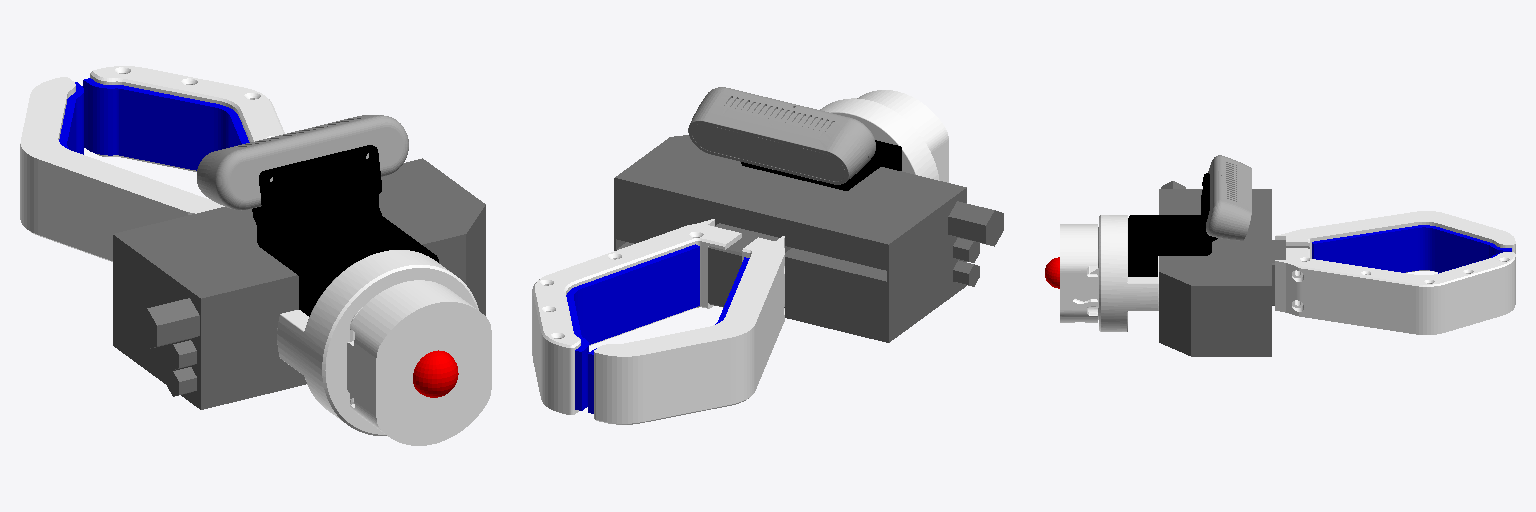
robot.urdf — ur10:
<?xml version="1.0" ?>
<robot name="ur10" xmlns:xacro="http://www.ros.org/wiki/xacro">
  
  <material name="blue">
      <color rgba="0.0 0.0 1.0 1.0"/>
  </material>
  <material name="white">
      <color rgba="1.0 1.0 1.0 1.0"/>
  </material>
  <material name="black">
      <color rgba="0.0 0.0 0.0 1.0"/>
  </material>
  <material name="gray">
   		<color rgba="0.5 0.5 0.5 1"/>
  </material>

  <material name="LightGrey">
      <color rgba="0.7 0.7 0.7 1.0"/>
  </material>

  <link name="world"/>

  <joint name="world_joint" type="fixed">
    <parent link="world"/>
    <child link="base_link"/>
    <origin rpy="0.0 0.0 0.0" xyz="0.0 0.0 0.0"/>
  </joint>

<!-- UR 10 -->
  <link name="base_link">
    <visual>
      <geometry>
        <mesh filename="meshes/ur10/Base.dae"/>
      </geometry>
      <material name="LightGrey"/>
    </visual>
    <collision>
       <!-- corrected-->
      <origin rpy="0 0 0" xyz="0.000 0.0 0.-15"/>
      <geometry>
         <!-- corrected-->
        <cylinder length="0.10" radius="0.085" />
        <!-- <mesh filename="meshes/ur10/Base.obj"/> -->
      </geometry>
    </collision>
    <collision>
      <!-- added-->
      <origin rpy="0 0 0" xyz="0.0 0.0 0.135"/>
      <geometry>
        <cylinder length="0.155" radius="0.076" />
      </geometry>
    </collision>
    <inertial>
      <mass value="4.0"/>
      <origin rpy="0 0 0" xyz="0.0 0.0 0.0"/>
      <inertia ixx="0.0061063308908" ixy="0.0" ixz="0.0" iyy="0.0061063308908" iyz="0.0" izz="0.01125"/>
    </inertial>
     <contact_coefficients kd="1.0" kp="1000.0" mu="0"/>
  </link>

  <joint name="shoulder_pan_joint" type="revolute">
    <parent link="base_link"/>
    <child link="shoulder_link"/>
    <origin rpy="0.0 0.0 0.0" xyz="0.0 0.0 0.1273"/>
    <axis xyz="0 0 1"/>
    <limit effort="330.0" lower="-6.2831853" upper="6.2831853" velocity="2.16"/>
    <dynamics damping="0.0" friction="0.0"/>
  </joint>

  <link name="shoulder_link">
    <visual>
      <geometry>
        <mesh filename="meshes/ur10/Shoulder.dae"/>
      </geometry>
      <material name="LightGrey"/>
    </visual>
    <collision>
      <!-- corrected-->
      <origin rpy="1.57079632679 0 0" xyz="0.0 0.18 -0.0"/>
      <geometry>
       <!-- corrected-->
        <cylinder length="0.17" radius="0.08" />
        <!-- <mesh filename="meshes/ur10/Shoulder.obj"/>  -->
      </geometry>
    </collision>
    <inertial>
      <mass value="7.778"/>
      <origin rpy="0 0 0" xyz="0.0 0.0 0.0"/>
      <inertia ixx="0.0314743125769" ixy="0.0" ixz="0.0" iyy="0.0314743125769" iyz="0.0" izz="0.021875625"/>
    </inertial>
    <contact_coefficients kd="1.0" kp="1000.0" mu="0"/>
  </link>
  
  <joint name="shoulder_lift_joint" type="revolute">
    <parent link="shoulder_link"/>
    <child link="upper_arm_link"/>
    <origin rpy="0.0 1.570796325 0.0" xyz="0.0 0.220941 0.0"/>
    <axis xyz="0 1 0"/>
    <limit effort="330.0" lower="-6.2831853" upper="6.2831853" velocity="2.16"/>
    <dynamics damping="0.0" friction="0.0"/>
  </joint>
  
  <link name="upper_arm_link">
    <visual>
      <geometry>
        <mesh filename="meshes/ur10/UpperArm.dae"/>
      </geometry>
      <material name="LightGrey"/>
    </visual>
    <collision>
      <!-- corrected-->
      <origin rpy="0 0 0" xyz="0.0 -0.045 0.320"/>
      <geometry>
        <!-- corrected-->
        <cylinder length="0.70" radius="0.06" />
        <!-- <mesh filename="meshes/ur10/UpperArm.obj"/> -->
      </geometry>
    </collision>
    <collision>
      <!-- added-->
      <origin rpy="0 1.57 1.57" xyz="0 -0.04 0.61"/>
      <geometry>
        <cylinder length="0.125" radius="0.06" />
      </geometry>
    </collision>
    <inertial>
      <mass value="12.93"/>
      <origin rpy="0 0 0" xyz="0.0 0.0 0.306"/>
      <inertia ixx="0.421753803798" ixy="0.0" ixz="0.0" iyy="0.421753803798" iyz="0.0" izz="0.036365625"/>
    </inertial>
    <contact_coefficients kd="1.0" kp="1000.0" mu="0"/>
  </link>
  
  <joint name="elbow_joint" type="revolute">
    <parent link="upper_arm_link"/>
    <child link="forearm_link"/>
    <origin rpy="0.0 0.0 0.0" xyz="0.0 -0.1719 0.612"/>
    <axis xyz="0 1 0"/>
    <limit effort="150.0" lower="-6.2831853" upper="6.2831853" velocity="3.15"/>
    <dynamics damping="0.0" friction="0.0"/>
  </joint>
  
  <link name="forearm_link">
    <visual>
      <geometry>
        <mesh filename="meshes/ur10/Forearm.dae"/>
      </geometry>
      <material name="LightGrey"/>
    </visual>
    <collision>
      <!-- <origin rpy="1.57079632679 0 0" xyz="0.0 0.00 -0.0"/> -->
      <!-- corrected-->
      <origin rpy="0 0 0" xyz="0 0.0 0.28"/>
      <geometry>
        <!-- corrected-->
        <cylinder length="0.675" radius="0.047" />
        <!-- <mesh filename="meshes/ur10/Forearm.obj"/> -->
      </geometry>
    </collision>
    <collision>
      <!-- added-->
      <origin rpy="0 1.57 1.57" xyz="0 -0.003 0"/>
      <geometry>
        <cylinder length="0.13" radius="0.060" />
      </geometry>
    </collision>
    <inertial>
      <mass value="3.87"/>
      <origin rpy="0 0 0" xyz="0.0 0.0 0.28615"/>
      <inertia ixx="0.111069694097" ixy="0.0" ixz="0.0" iyy="0.111069694097" iyz="0.0" izz="0.010884375"/>
    </inertial>
    <contact_coefficients kd="1.0" kp="1000.0" mu="0"/>    
  </link>
  
  <joint name="wrist_1_joint" type="revolute">
    <parent link="forearm_link"/>
    <child link="wrist_1_link"/>
    <origin rpy="0.0 1.570796325 0.0" xyz="0.0 0.0 0.5723"/>
    <axis xyz="0 1 0"/>
    <limit effort="54.0" lower="-6.2831853" upper="6.2831853" velocity="3.2"/>
    <dynamics damping="0.0" friction="0.0"/>
  </joint>
  
  <link name="wrist_1_link">
    <visual>
      <geometry>
        <mesh filename="meshes/ur10/Wrist1.dae"/>
      </geometry>
      <material name="LightGrey"/>
    </visual>
    <collision>
      <!-- <origin rpy="1.57079632679 0 0" xyz="0.0 0.1100 -0.0"/> -->
      <!-- corrected-->
      <origin rpy="0 0 0" xyz="0.0 0.115 0.0025"/>
      <geometry>
      <!-- corrected-->
      <cylinder length="0.115" radius="0.047" />
        <!-- <mesh filename="meshes/ur10/Wrist1.obj"/> -->
      </geometry>
    </collision>
    <collision>
      <!-- added-->
      <origin rpy="0 1.57 1.57" xyz="0 -0.003 0"/>
      <geometry>
        <cylinder length="0.13" radius="0.047" />
      </geometry>
    </collision>
    <inertial>
      <mass value="1.96"/>
      <origin rpy="0 0 0" xyz="0.0 0.0 0.0"/>
      <inertia ixx="0.0051082479567" ixy="0.0" ixz="0.0" iyy="0.0051082479567" iyz="0.0" izz="0.0055125"/>
    </inertial>
    <contact_coefficients kd="1.0" kp="1000.0" mu="0"/>
  </link>
  
  <joint name="wrist_2_joint" type="revolute">
    <parent link="wrist_1_link"/>
    <child link="wrist_2_link"/>
    <origin rpy="0.0 0.0 0.0" xyz="0.0 0.1149 0.0"/>
    <axis xyz="0 0 1"/>
    <limit effort="54.0" lower="-6.2831853" upper="6.2831853" velocity="3.2"/>
    <dynamics damping="0.0" friction="0.0"/>
  </joint>
  
  <link name="wrist_2_link">
    <visual>
      <geometry>
        <mesh filename="meshes/ur10/Wrist2.dae"/>
      </geometry>
      <material name="LightGrey"/>
    </visual>
    <collision>
      <!-- corrected-->
      <origin rpy="1.57079632679 0 0" xyz="0.0 0.02 0.115"/>
      <geometry>
      <!-- corrected-->
      <cylinder length="0.15" radius="0.046" />
        <!-- <mesh filename="meshes/ur10/Wrist2.obj"/> -->
      </geometry>
    </collision>
    <inertial>
      <mass value="1.96"/>
      <origin rpy="0 0 0" xyz="0.0 0.0 0.0"/>
      <inertia ixx="0.0051082479567" ixy="0.0" ixz="0.0" iyy="0.0051082479567" iyz="0.0" izz="0.0055125"/>
    </inertial>
    <contact_coefficients kd="1.0" kp="1000.0" mu="0"/>
  </link>
  
  <joint name="wrist_3_joint" type="revolute">
    <parent link="wrist_2_link"/>
    <child link="wrist_3_link"/>
    <origin rpy="0.0 0.0 0.0" xyz="0.0 0.0 0.1157"/>
    <axis xyz="0 1 0"/>
    <limit effort="54.0" lower="-6.2831853" upper="6.2831853" velocity="3.2"/>
    <dynamics damping="0.0" friction="0.0"/>
  </joint>
  
  <link name="wrist_3_link">
    <visual>
      <geometry>
        <mesh filename="meshes/ur10/Wrist3.dae"/>
      </geometry>
      <material name="LightGrey"/>
    </visual>
	  <collision>
      <origin rpy="1.57079632679 0 0" xyz="0.0 0.115 0.0"/>
      <geometry>
        <cylinder length="0.025" radius="0.046" />
      </geometry>
    </collision>
    <inertial>
      <mass value="0.202"/>
      <origin rpy="0 0 0" xyz="0.0 0.0 0.0"/>
      <inertia ixx="0.000526462289415" ixy="0.0" ixz="0.0" iyy="0.000526462289415" iyz="0.0" izz="0.000568125"/>
    </inertial>
    <contact_coefficients kd="1.0" kp="1000.0" mu="0"/>
  </link>

  <joint name="ee_fixed_joint" type="fixed">
    <parent link="wrist_3_link"/>
    <child link="ee_link"/>
    <origin rpy="0.0 0.0 1.570796325" xyz="0.0 0.0922 0.0"/>
  </joint>
  
  <link name="ee_link">
      <visual>
          <origin xyz="0.0 0 0" rpy="0 0 0" />
          <geometry>
             <sphere radius="0.01"/>
          </geometry>
          <material name="red">
        		<color rgba="1 0 0 1"/>
      	  </material>
      </visual>
  </link>
 
 <!-- WSG50-110 -->

  <link name="wsg50_holder_link">
    <inertial>
        <mass value="0.3" />
        <origin xyz="0 0 0" />
        <inertia  ixx="1.0" ixy="0.0"  ixz="0.0"  iyy="1.0"  iyz="0.0"  izz="1.0" />
    </inertial>
    <visual>
        <origin xyz="0.0 0 0" rpy="0 0 0" />
        <geometry>
            <mesh filename="meshes/wsg50/wsg50-holder.stl" scale="0.001 0.001 0.001"/>
        </geometry>
        <material name="white"/>
    </visual>
    <collision>
        <origin xyz="0.0 0 0" rpy="0 0 0" />
        <geometry>
            <mesh filename="meshes/wsg50/wsg50-holder.stl" scale="0.001 0.001 0.001"/>
        </geometry>
    </collision>
    <contact_coefficients kd="1.0" kp="1000.0" mu="0"/>
  </link>

  <joint name="wsg50_holder_joint" type="fixed">
    <origin rpy="0 -1.570796325 0" xyz="0 0 0"/>
    <parent link="ee_link" />
    <child link="wsg50_holder_link" />
  </joint>

  <link name="wsg50_base_link">
    <inertial>
        <mass value="1.2" />
        <origin xyz="0 0 0" />
        <inertia  ixx="1.0" ixy="0.0"  ixz="0.0"  iyy="1.0"  iyz="0.0"  izz="1.0" />
    </inertial>
    <visual>
        <origin xyz="0.0 0 0" rpy="0 0 0" />
        <geometry>
            <mesh filename="meshes/wsg50/wsg50-110-base.stl" scale="0.001 0.001 0.001"/>
        </geometry>
        <material name="gray"/>
    </visual>
    <collision>
        <origin xyz="0.0 0 0" rpy="0 0 0" />
        <geometry>
            <mesh filename="meshes/wsg50/wsg50-110-base.stl" scale="0.001 0.001 0.001"/>
        </geometry>
    </collision>
    <contact_coefficients kd="1.0" kp="1000.0" mu="0"/>
  </link>

  <joint name="wsg50_base_holder_joint" type="fixed">
    <origin rpy="0 0 0" xyz="0 0 0"/>
    <parent link="wsg50_holder_link" />
    <child link="wsg50_base_link" />
  </joint>

 <!-- Finger - 1  -->
  <link name="wsg50_lip1_link">
    <inertial>
        <mass value="0.1" />
        <origin xyz="0 0 0" />
        <inertia  ixx="1.0" ixy="0.0"  ixz="0.0"  iyy="1.0"  iyz="0.0"  izz="1.0" />
    </inertial>
    <visual>
        <origin xyz="0.0 0 0" rpy="0 0 0" />
        <geometry>
            <mesh filename="meshes/wsg50/wsg50-lip-1.stl" scale="0.001 0.001 0.001"/>
        </geometry>
        <material name="gray"/>
    </visual>
    <collision>
        <origin xyz="0.0 0 0" rpy="0 0 0" />
        <geometry>
            <mesh filename="meshes/wsg50/wsg50-lip-1.stl" scale="0.001 0.001 0.001"/>
        </geometry>
    </collision>
    <contact_coefficients kd="1.0" kp="1000.0" mu="0"/>     
  </link>

  <joint name="wsg50_base_lip1_joint" type="prismatic">
    <parent link="wsg50_base_link"/>
    <child link="wsg50_lip1_link"/>
    <origin   xyz="0 0 0"   rpy="0 0 0"  />
    <axis xyz="0 -1 0"/>
    <limit effort="30" lower="0" upper="0.055" velocity="0.5"/>
  </joint>

  <link name="wsg50_finger1_link">
    <inertial>
        <mass value="0.1" />
        <origin xyz="0 0 0" />
        <inertia  ixx="1.0" ixy="0.0"  ixz="0.0"  iyy="1.0"  iyz="0.0"  izz="1.0" />
    </inertial>
    <visual>
        <origin xyz="0.0 0 0" rpy="0 0 0" />
        <geometry>
            <mesh filename="meshes/wsg50/wsg50-finger-1.stl" scale="0.001 0.001 0.001"/>
        </geometry>
        <material name="white"/>
    </visual>
    <collision>
        <origin xyz="0.0 0 0" rpy="0 0 0" />
        <geometry>
            <mesh filename="meshes/wsg50/wsg50-finger-1.stl" scale="0.001 0.001 0.001"/>
        </geometry>
    </collision>
    <contact_coefficients kd="1.0" kp="1000.0" mu="0"/>
  </link>

  <joint name="wsg50_lip1_finger1_joint" type="fixed">
    <origin rpy="0 0 0" xyz="0 0 0"/>
    <parent link="wsg50_lip1_link" />
    <child link="wsg50_finger1_link" />
  </joint>

  <link name="wsg50_tip1_link">
    <inertial>
        <mass value="0.05" />
        <origin xyz="0 0 0" />
        <inertia  ixx="1.0" ixy="0.0"  ixz="0.0"  iyy="1.0"  iyz="0.0"  izz="1.0" />
    </inertial>
    <visual>
        <origin xyz="0.0 0 0" rpy="0 0 0" />
        <geometry>
            <mesh filename="meshes/wsg50/wsg50-tip-1.stl" scale="0.001 0.001 0.001"/>
        </geometry>
        <material name="blue"/>
    </visual>
    <collision>
        <origin xyz="0.0 0 0" rpy="0 0 0" />
        <geometry>
            <mesh filename="meshes/wsg50/wsg50-tip-1.stl" scale="0.001 0.001 0.001"/>
        </geometry>
    </collision>
    <contact_coefficients kd="1.0" kp="1000.0" mu="0"/>
  </link>

  <joint name="wsg50_lip1_tip1_joint" type="fixed">
    <origin rpy="0 0 0" xyz="0 0 0"/>
    <parent link="wsg50_lip1_link" />
    <child link="wsg50_tip1_link" />
  </joint>

 <!-- Finger - 2  -->
  <link name="wsg50_lip2_link">
    <inertial>
        <mass value="0.1" />
        <origin xyz="0 0 0" />
        <inertia  ixx="1.0" ixy="0.0"  ixz="0.0"  iyy="1.0"  iyz="0.0"  izz="1.0" />
    </inertial>
    <visual>
        <origin xyz="0.0 0 0" rpy="0 0 0" />
        <geometry>
            <mesh filename="meshes/wsg50/wsg50-lip-2.stl" scale="0.001 0.001 0.001"/>
        </geometry>
        <material name="gray"/>
    </visual>
    <collision>
        <origin xyz="0.0 0 0" rpy="0 0 0" />
        <geometry>
            <mesh filename="meshes/wsg50/wsg50-lip-2.stl" scale="0.001 0.001 0.001"/>
        </geometry>
    </collision>
    <contact_coefficients kd="1.0" kp="1000.0" mu="0"/>
  </link>

  <joint name="wsg50_base_lip2_joint" type="prismatic">
    <parent link="wsg50_base_link"/>
    <child link="wsg50_lip2_link"/>
    <origin   xyz="0 0 0"   rpy="0 0 0"  />
    <axis xyz="0 1 0"/>
    <limit effort="30" lower="0" upper="0.055" velocity="0.5"/>
  </joint>

  <link name="wsg50_finger2_link">
    <inertial>
        <mass value="0.1" />
        <origin xyz="0 0 0" />
        <inertia  ixx="1.0" ixy="0.0"  ixz="0.0"  iyy="1.0"  iyz="0.0"  izz="1.0" />
    </inertial>
    <visual>
        <origin xyz="0.0 0 0" rpy="0 0 0" />
        <geometry>
            <mesh filename="meshes/wsg50/wsg50-finger-2.stl" scale="0.001 0.001 0.001"/>
        </geometry>
        <material name="white"/>
    </visual>
    <collision>
        <origin xyz="0.0 0 0" rpy="0 0 0" />
        <geometry>
            <mesh filename="meshes/wsg50/wsg50-finger-2.stl" scale="0.001 0.001 0.001"/>
        </geometry>
    </collision>
    <contact_coefficients kd="1.0" kp="1000.0" mu="0"/>
  </link>

  <joint name="wsg50_lip2_finger2_joint" type="fixed">
    <origin rpy="0 0 0" xyz="0 0 0"/>
    <parent link="wsg50_lip2_link" />
    <child link="wsg50_finger2_link" />
  </joint>

  <link name="wsg50_tip2_link">
    <inertial>
        <mass value="0.05" />
        <origin xyz="0 0 0" />
        <inertia  ixx="1.0" ixy="0.0"  ixz="0.0"  iyy="1.0"  iyz="0.0"  izz="1.0" />
    </inertial>
    <visual>
        <origin xyz="0.0 0 0" rpy="0 0 0" />
        <geometry>
            <mesh filename="meshes/wsg50/wsg50-tip-2.stl" scale="0.001 0.001 0.001"/>
        </geometry>
        <material name="blue"/>
    </visual>
    <collision>
        <origin xyz="0.0 0 0" rpy="0 0 0" />
        <geometry>
            <mesh filename="meshes/wsg50/wsg50-tip-2.stl" scale="0.001 0.001 0.001"/>
        </geometry>
    </collision>
    <contact_coefficients kd="1.0" kp="1000.0" mu="0"/>     
  </link>

  <joint name="wsg50_lip2_tip2_joint" type="fixed">
    <origin rpy="0 0 0" xyz="0 0 0"/>
    <parent link="wsg50_lip2_link" />
    <child link="wsg50_tip2_link" />
  </joint>

<!-- Realsense Camera -->

  <link name="realsense_holder_link">
    <inertial>
        <mass value="0.05" />
        <origin xyz="0 0 0" />
        <inertia  ixx="1.0" ixy="0.0"  ixz="0.0"  iyy="1.0"  iyz="0.0"  izz="1.0" />
    </inertial>
    <visual>
        <origin xyz="0.0 0 0" rpy="0 0 0" />
        <geometry>
            <mesh filename="meshes/realsense/realsense-holder.stl" scale="0.001 0.001 0.001"/>
        </geometry>
        <material name="black"/>
    </visual>
    <collision>
        <origin xyz="0.0 0 0" rpy="0 0 0" />
        <geometry>
            <mesh filename="meshes/realsense/realsense-holder.stl" scale="0.001 0.001 0.001"/>
        </geometry>
    </collision>
    <contact_coefficients kd="1.0" kp="1000.0" mu="0"/>
  </link>

  <joint name="realsense_holder_joint" type="fixed">
    <origin rpy="0 0 0" xyz="0 0 0"/>
    <parent link="wsg50_holder_link" />
    <child link="realsense_holder_link" />
  </joint>

  <link name="realsense_link">
    <inertial>
        <mass value="0.05" />
        <origin xyz="0 0 0" />
        <inertia  ixx="1.0" ixy="0.0"  ixz="0.0"  iyy="1.0"  iyz="0.0"  izz="1.0" />
    </inertial>
    <visual>
        <origin xyz="0.0 0 0" rpy="0 0 0" />
        <geometry>
            <mesh filename="meshes/realsense/realsense-D435-centered.stl" scale="0.001 0.001 0.001"/>
        </geometry>
        <material name="LightGrey"/>
    </visual>
    <collision>
        <origin xyz="0.0 0 0" rpy="0 0 0" />
        <geometry>
            <mesh filename="meshes/realsense/realsense-D435-centered.stl" scale="0.001 0.001 0.001"/>
        </geometry>
    </collision>
    <contact_coefficients kd="1.0" kp="1000.0" mu="0"/>     
  </link>

  <joint name="realsense_joint" type="fixed">
    <origin   xyz="0.11931583213806152 0.0 -0.0481053171157837 " rpy="-1.2783696937561035 0.0013367748260498004 -1.5707963705062866 "  />
    <parent link="ee_link" />
    <child link="realsense_link" />
  </joint>

</robot>

--- Facts derived from the render (not from the file) ---
3 views of the same robot in one strip: view 1: azimuth 30°, elevation 25°; view 2: azimuth 150°, elevation 25°; view 3: azimuth 270°, elevation 25° (orthographic).
Robot: ur10 — 19 links, 18 joints (6 revolute, 2 prismatic, 10 fixed); root link world; default pose: every joint at zero.
Links seen in each view (by area): view 1: wsg50_base_link, wsg50_holder_link, wsg50_finger1_link, realsense_holder_link, wsg50_tip2_link, realsense_link, wsg50_finger2_link, ee_link, wsg50_tip1_link; view 2: wsg50_base_link, wsg50_finger1_link, realsense_link, wsg50_finger2_link, wsg50_tip2_link, wsg50_holder_link, realsense_holder_link, wsg50_lip2_link, wsg50_lip1_link, wsg50_tip1_link; view 3: wsg50_finger2_link, wsg50_base_link, wsg50_holder_link, wsg50_tip1_link, realsense_holder_link, wsg50_finger1_link, realsense_link.
Link boxes in pixels (x1,y1,x2,y2): wsg50_base_link: (113, 158, 485, 409); wsg50_holder_link: (277, 250, 491, 445); wsg50_finger1_link: (20, 77, 224, 261); realsense_holder_link: (252, 145, 438, 316); wsg50_tip2_link: (83, 78, 249, 170); realsense_link: (197, 115, 408, 210); wsg50_finger2_link: (90, 66, 284, 171); ee_link: (413, 350, 458, 397); wsg50_tip1_link: (59, 82, 83, 154); wsg50_base_link: (614, 135, 1003, 342); wsg50_finger1_link: (594, 236, 784, 424); realsense_link: (688, 87, 875, 184); wsg50_finger2_link: (532, 219, 741, 414); wsg50_tip2_link: (566, 244, 699, 410); wsg50_holder_link: (820, 90, 948, 182); realsense_holder_link: (741, 140, 901, 190); wsg50_lip2_link: (708, 223, 750, 307); wsg50_lip1_link: (725, 231, 790, 302); wsg50_tip1_link: (588, 257, 749, 413); wsg50_finger2_link: (1275, 248, 1515, 334); wsg50_base_link: (1159, 181, 1271, 356); wsg50_holder_link: (1060, 215, 1158, 331); wsg50_tip1_link: (1312, 225, 1511, 272); realsense_holder_link: (1128, 173, 1217, 276); wsg50_finger1_link: (1275, 211, 1515, 272); realsense_link: (1206, 155, 1251, 240).
Bounding box of the posed robot: 0.1656 × 0.3001 × 0.1041 m (x, y, z).
Meshes: 17 distinct files referenced, 10 mesh visuals loaded (10 binary STL); not drawn: 7 (reference not matched to a file when rendering).